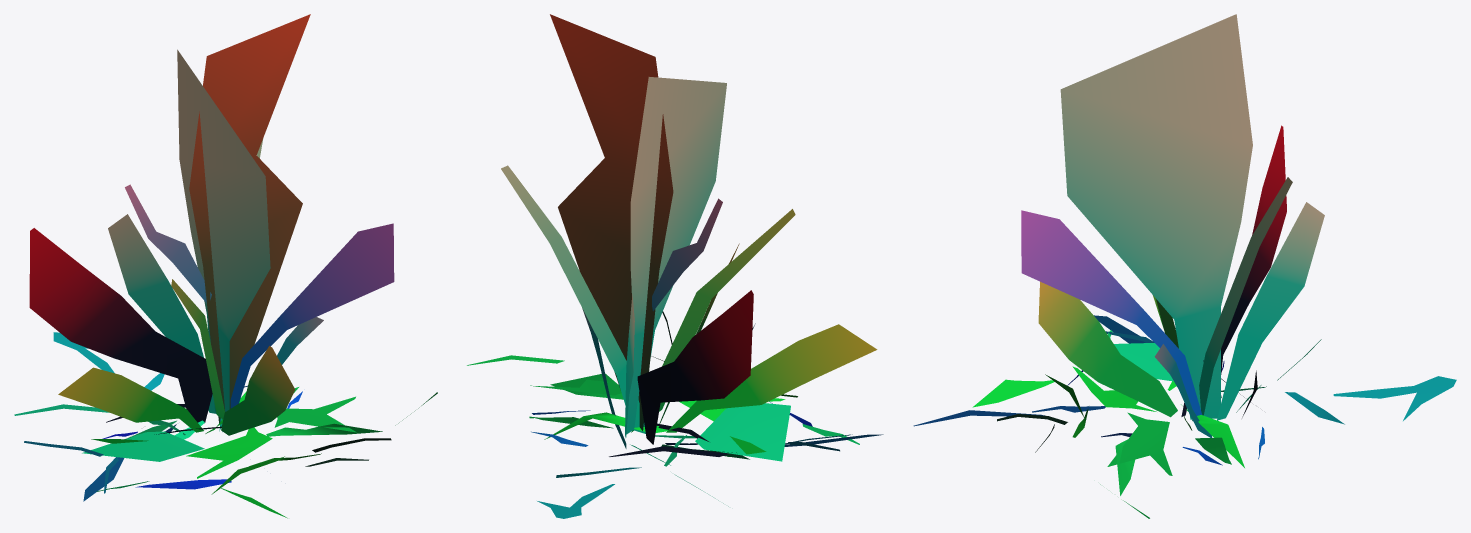
The model's file is Dead_Shrubs_vdknafgha_Low_vdknafgha_VarB_LOD0.fbx.
The picture shows the model from 3 angles, left to right: view 1: azimuth 30°, elevation 25°; view 2: azimuth 150°, elevation 25°; view 3: azimuth 270°, elevation 25°; orthographic projection. The views are drawn at different scales.
Visible parts, largest first — view 1: _ym4t_VarB_LOD1; view 2: _ym4t_VarB_LOD1; view 3: _ym4t_VarB_LOD1.
Boxes of the visible parts, x1=… form: _ym4t_VarB_LOD1: x1=14, y1=14, x2=437, y2=518; _ym4t_VarB_LOD1: x1=467, y1=14, x2=883, y2=518; _ym4t_VarB_LOD1: x1=913, y1=14, x2=1456, y2=518.
Bounding box in the file's own units: 26.54 × 26.11 × 29.99.
